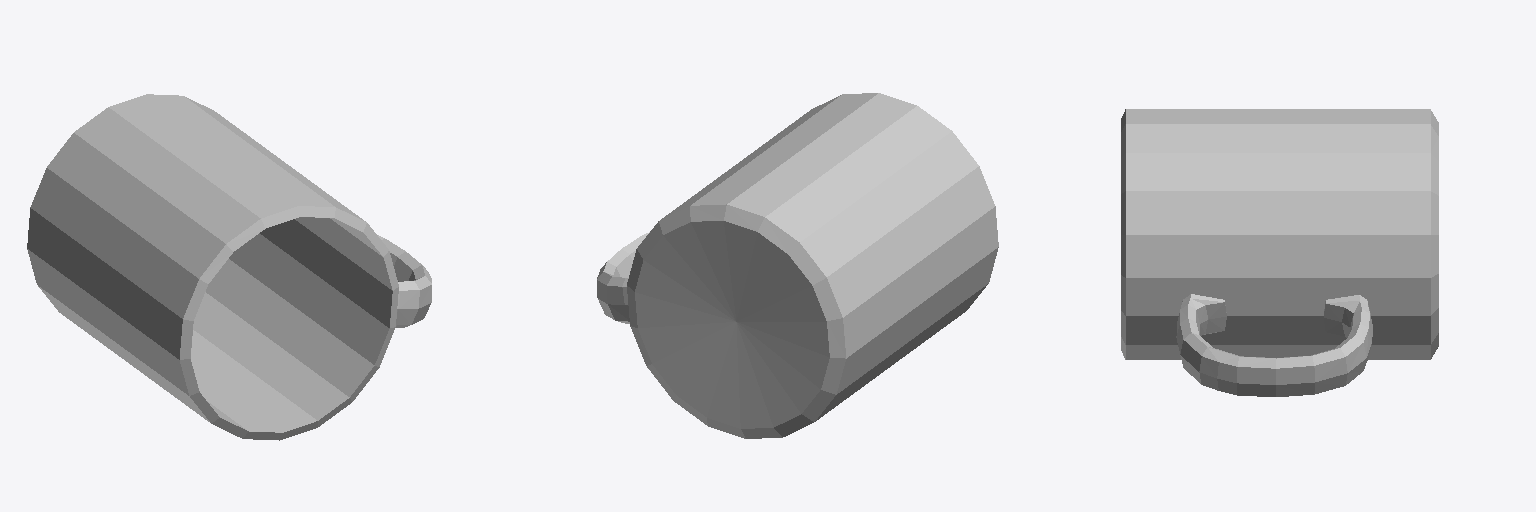
File: cup01_m0_ah.obj
3 renders of one model, left to right at view 1: azimuth 30°, elevation 25°; view 2: azimuth 150°, elevation 25°; view 3: azimuth 270°, elevation 25°, orthographic.
Visible parts, largest first — view 1: cup01_m0_ah; view 2: cup01_m0_ah; view 3: cup01_m0_ah.
Boxes of the visible parts, x1,y1,x2,y2 form: cup01_m0_ah: [27, 94, 431, 440]; cup01_m0_ah: [597, 93, 998, 438]; cup01_m0_ah: [1121, 109, 1438, 396].
Bounding box in the file's own units: 5.82 × 4.16 × 5.21.